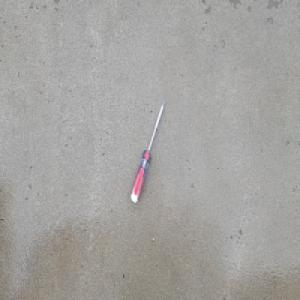Screwdriver: (129, 98, 165, 205)
